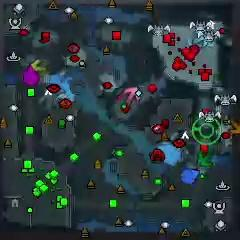p1: (180, 167, 200, 184)
p3: (21, 65, 39, 87)
x1: (124, 87, 141, 105)
x2: (31, 59, 47, 73)
x3: (191, 36, 210, 47)
x4: (197, 149, 214, 167)
x5: (229, 118, 240, 135)
